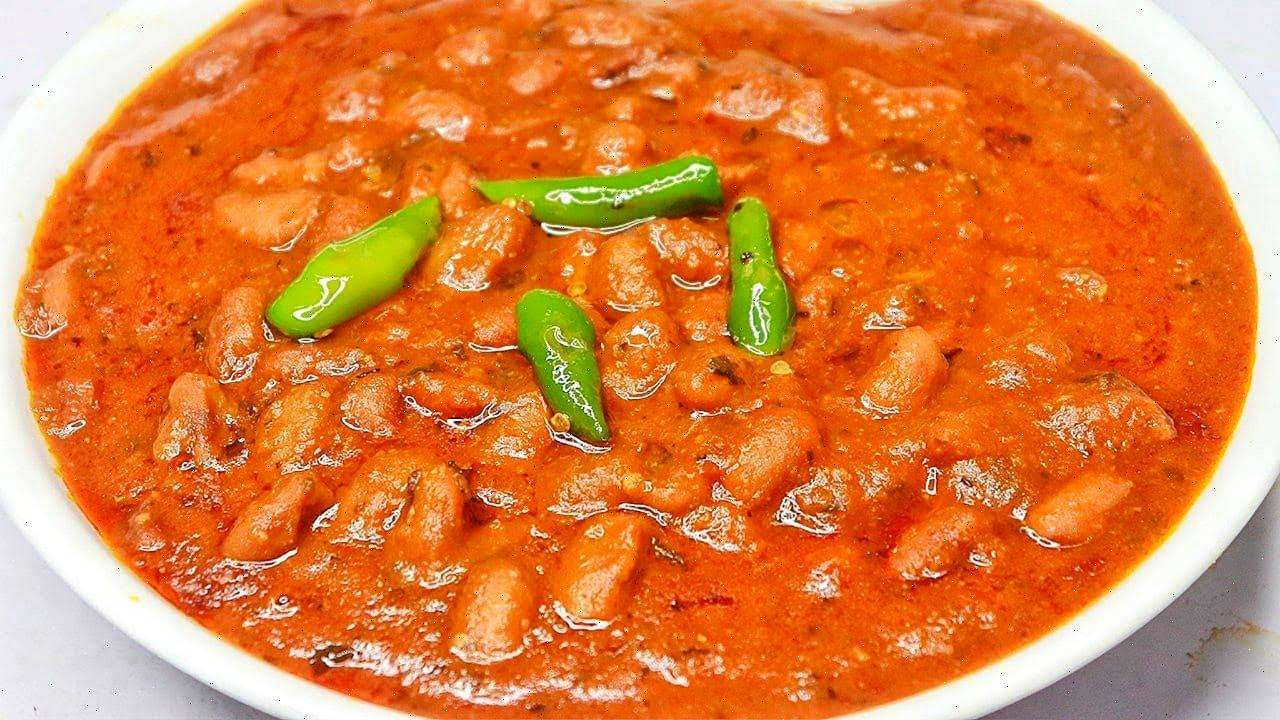rajma: (32, 8, 1280, 720)
